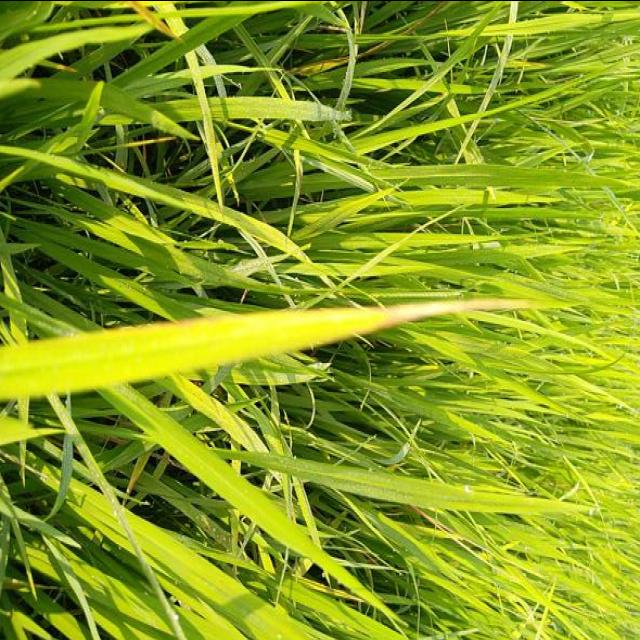Leaf Blight: (375, 298, 550, 330), (169, 314, 223, 327)
